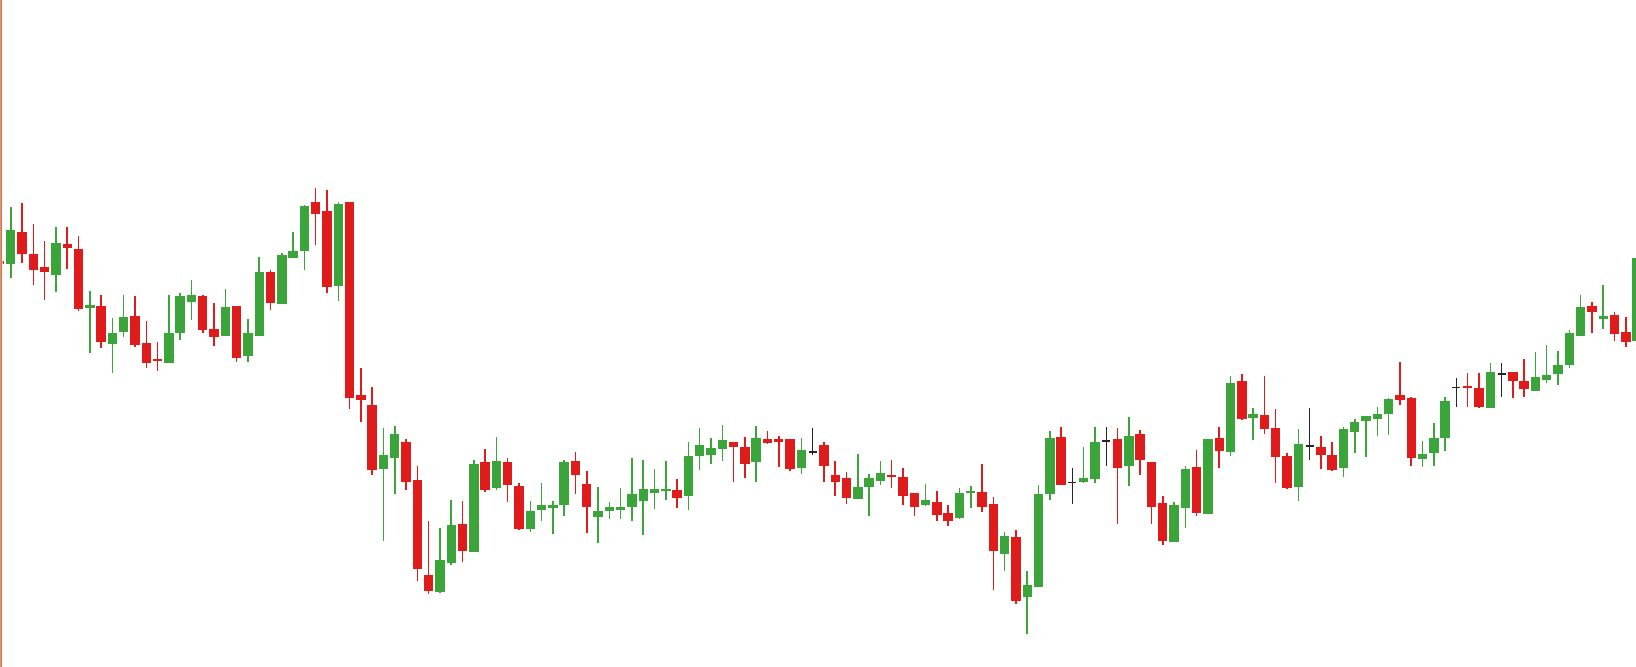buy: (1111, 446, 1181, 549), (1360, 394, 1439, 474)
sell: (14, 190, 321, 310)
